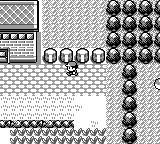captura: (10, 128, 106, 143)
main: (65, 62, 78, 75)
no-caminable: (106, 0, 159, 143), (0, 1, 38, 63), (41, 47, 105, 63)
poke-ball: (154, 78, 159, 90)
puerta: (0, 50, 8, 63)
salto: (1, 121, 74, 127)
